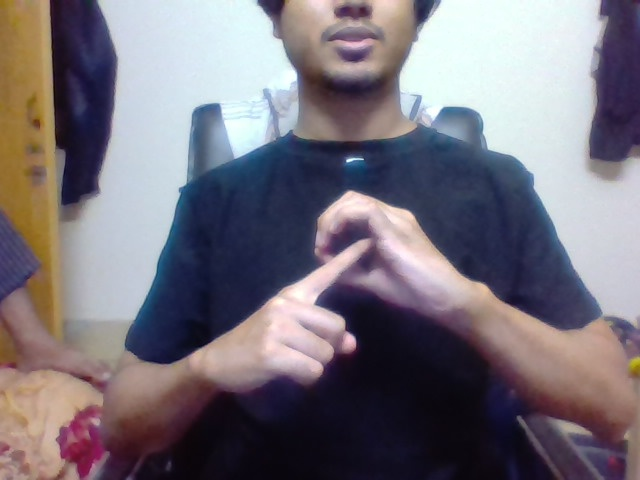Q: (324, 214, 389, 286)
